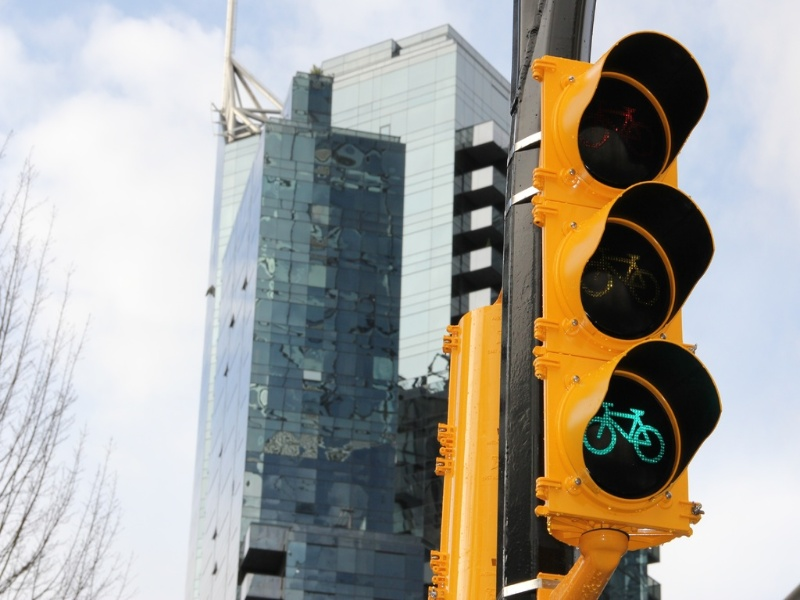cycle_route_ahead: (580, 396, 672, 473)
